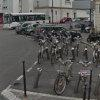Bicycle: (33, 24, 79, 94)
